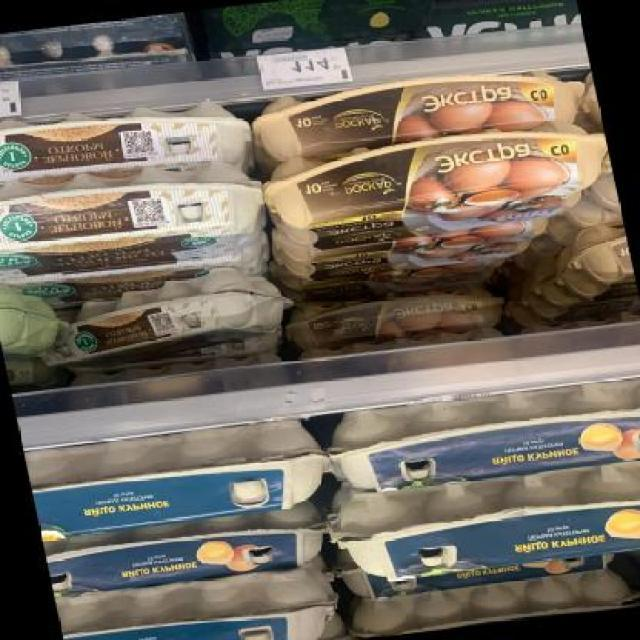egg: (260, 117, 618, 255), (318, 371, 640, 501), (328, 458, 640, 587), (24, 412, 338, 539), (255, 59, 596, 164), (0, 154, 271, 284), (23, 262, 294, 378), (42, 506, 335, 598), (0, 93, 252, 193), (55, 564, 352, 640), (284, 281, 508, 354)
